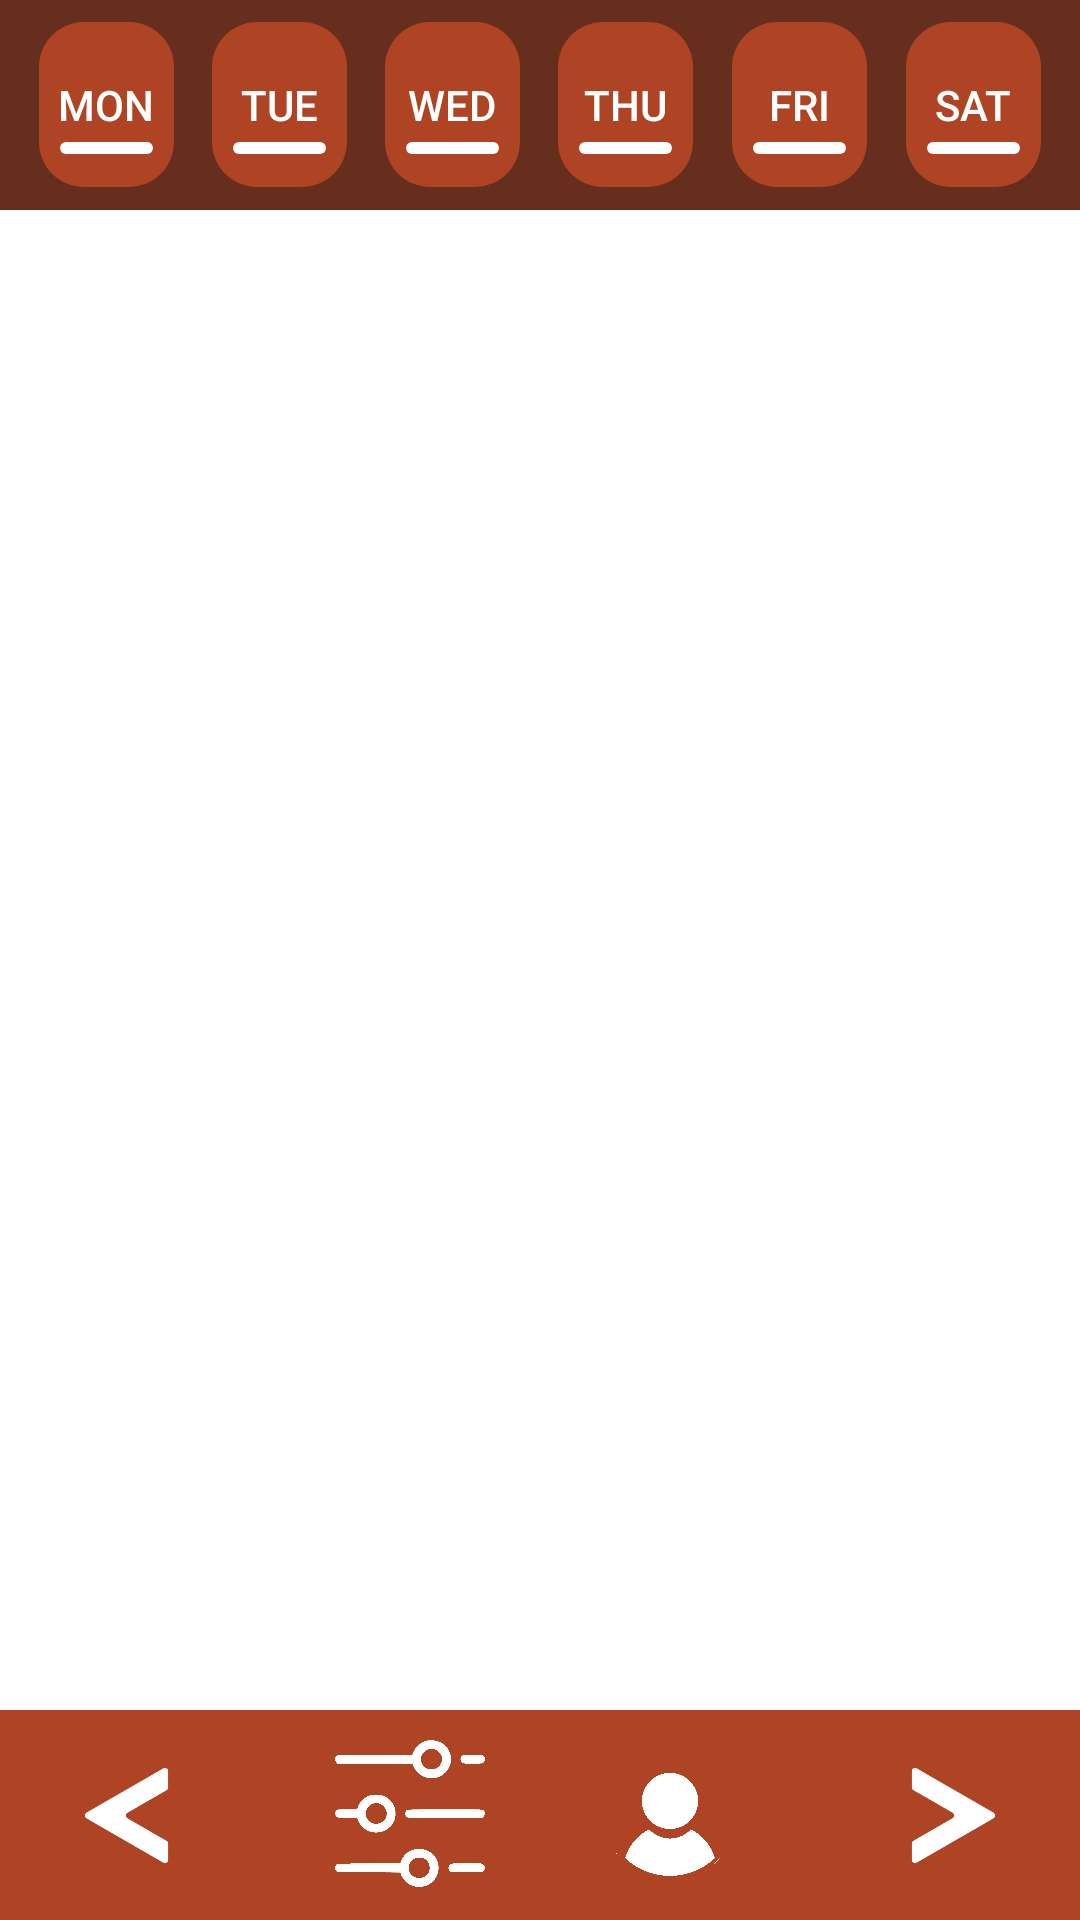

Icon click points for this 1080*1920 phone screenshot, format (x=x, y=y):
backwards buttonleft: (x=126, y=1815)
backwards buttonright: (x=953, y=1815)
